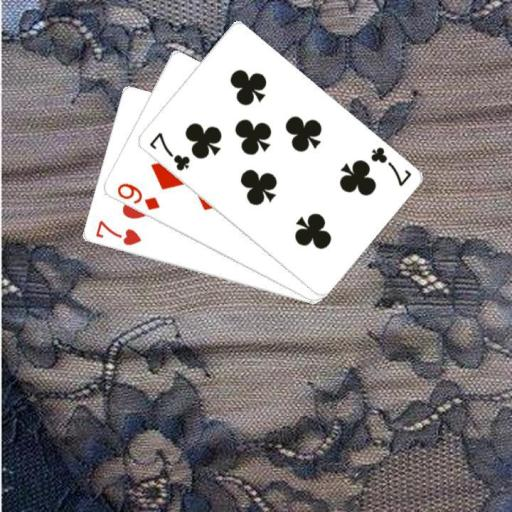7C: (367, 144, 413, 188), (146, 129, 191, 173)
7H: (92, 217, 143, 247)
9D: (113, 180, 161, 212)
